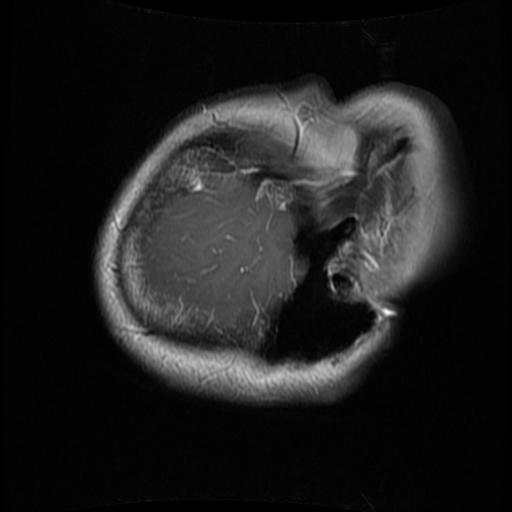glioma: (180, 151, 234, 196)
